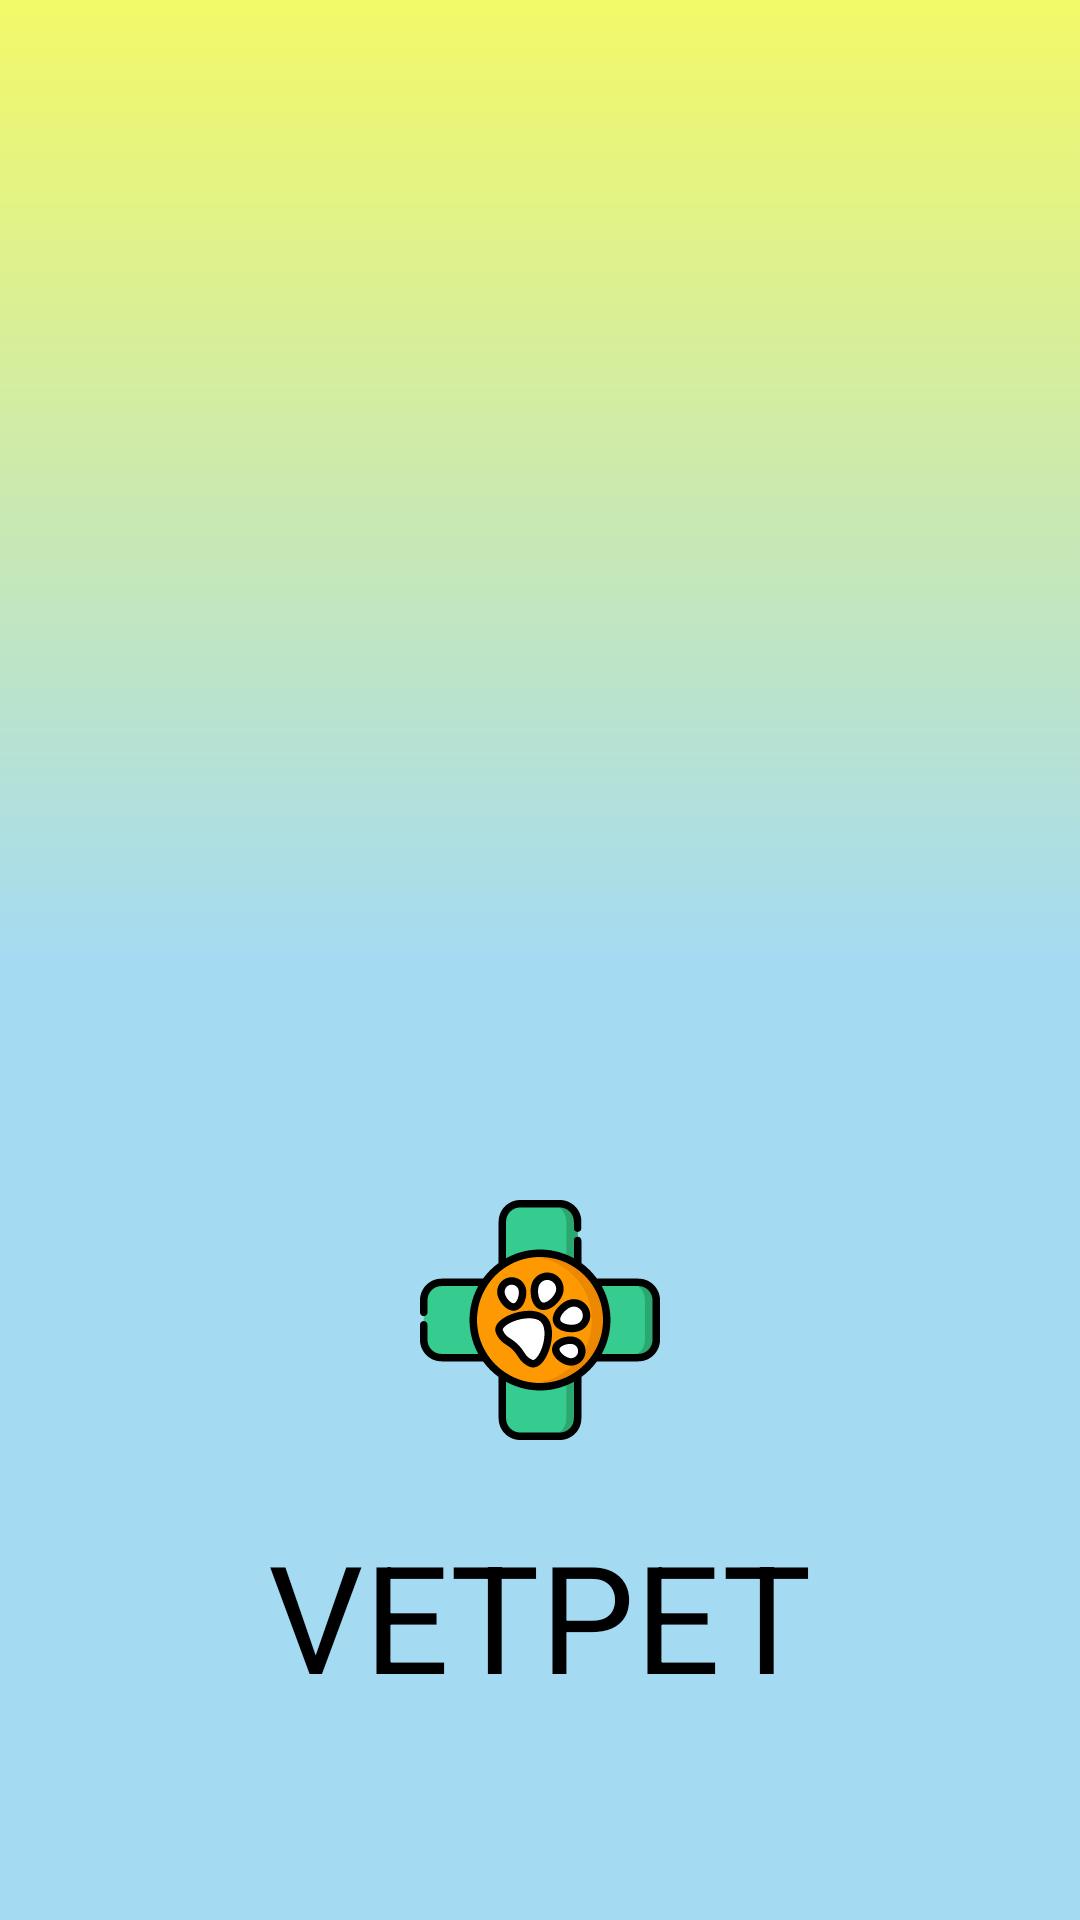

Named icons in this screenshot (1080 × 1920) and their bounding boxes, (x1, y1, x2, y2):
veterinarian: (420, 1200, 660, 1440)
